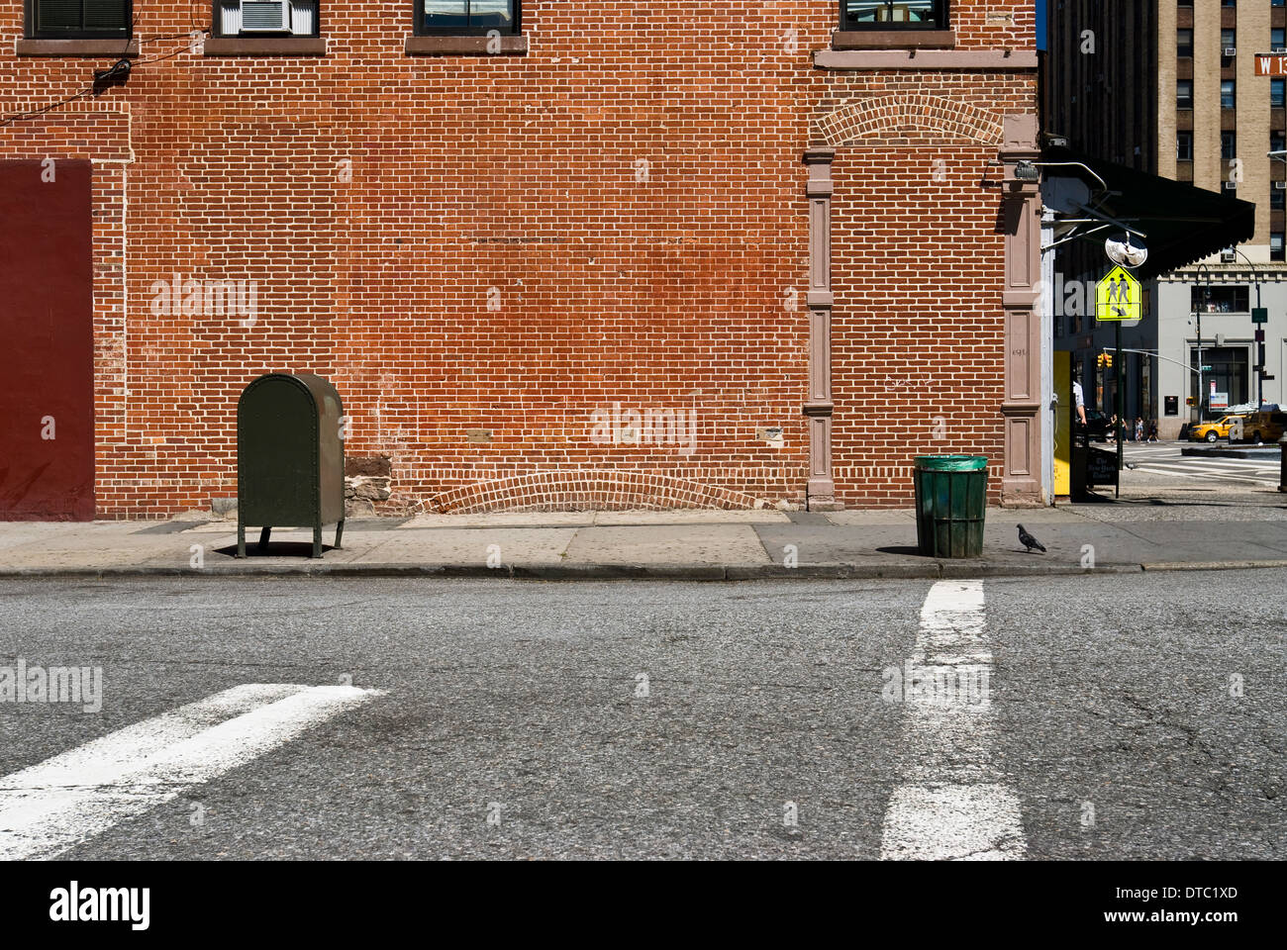TrashBin: (910, 455, 996, 557)
Wall: (390, 212, 583, 512)
